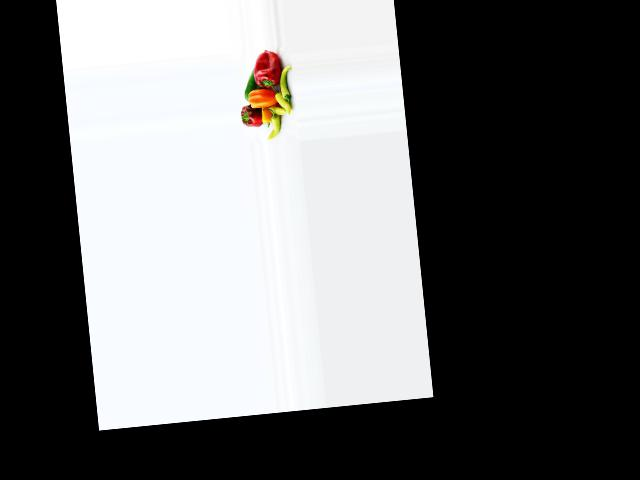bell_pepper: (278, 63, 294, 105)
